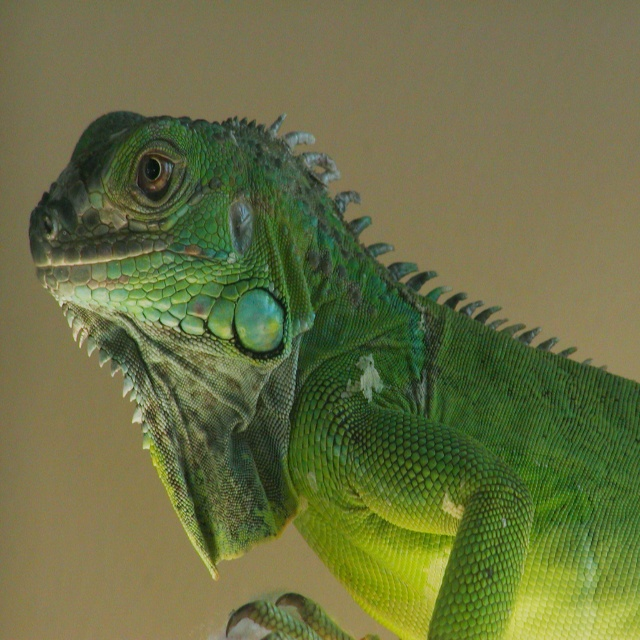Lizard: (28, 110, 640, 640)
